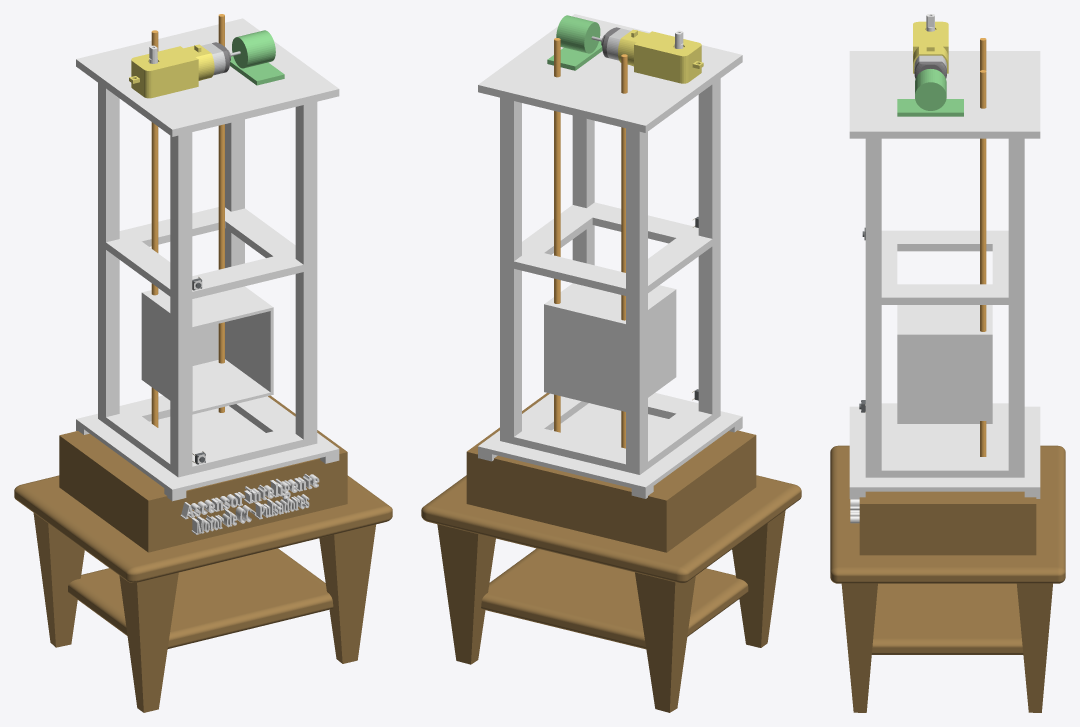
File: ascensor.glb
The picture shows the model from 3 angles, left to right: view 1: azimuth 30°, elevation 25°; view 2: azimuth 150°, elevation 25°; view 3: azimuth 270°, elevation 25°; orthographic projection.
Visible parts, largest first — view 1: Mesh_Mesh_head_geo.001_lambert2SG.002, Mesh_Mesh_head_geo.001_lambert2SG.001; view 2: Mesh_Mesh_head_geo.001_lambert2SG.002, Mesh_Mesh_head_geo.001_lambert2SG.001; view 3: Mesh_Mesh_head_geo.001_lambert2SG.002, Mesh_Mesh_head_geo.001_lambert2SG.001.
Boxes of the visible parts, <box> form: Mesh_Mesh_head_geo.001_lambert2SG.002: <box>76,14,339,501</box>; Mesh_Mesh_head_geo.001_lambert2SG.001: <box>14,395,392,712</box>; Mesh_Mesh_head_geo.001_lambert2SG.002: <box>478,14,742,498</box>; Mesh_Mesh_head_geo.001_lambert2SG.001: <box>421,393,801,712</box>; Mesh_Mesh_head_geo.001_lambert2SG.002: <box>849,14,1040,498</box>; Mesh_Mesh_head_geo.001_lambert2SG.001: <box>830,445,1065,712</box>.
Size of the model in its own units: 0.9502 by 2.14 by 0.7371.
